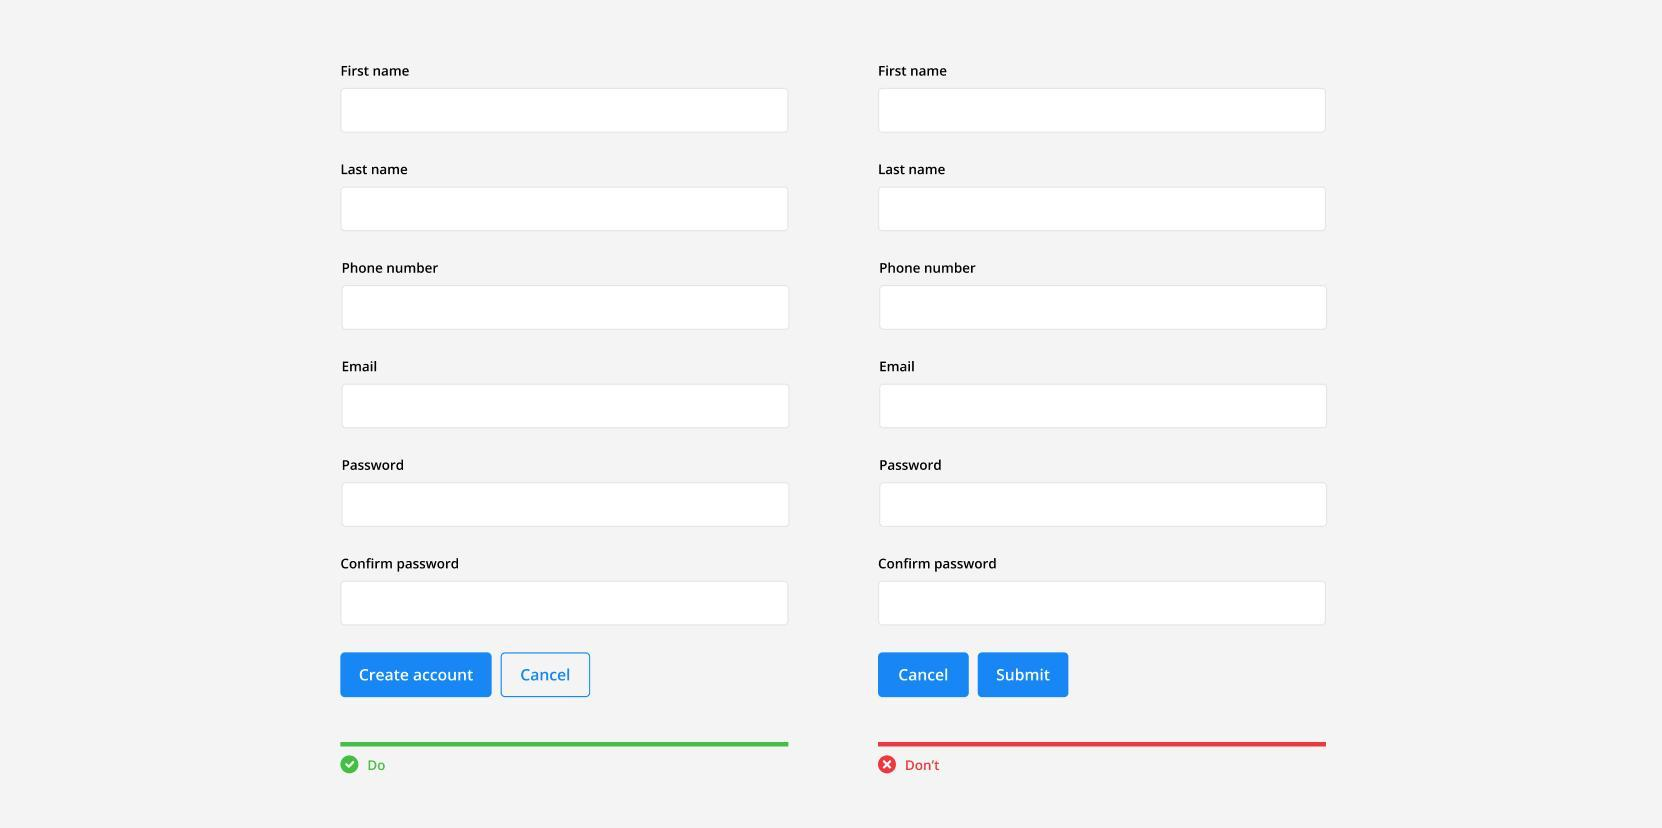button: (339, 652, 494, 697), (879, 652, 972, 700), (977, 651, 1071, 699), (502, 653, 590, 695)
input: (341, 187, 790, 234), (344, 382, 791, 428), (879, 186, 1327, 231), (341, 580, 789, 626), (882, 485, 1328, 530), (882, 384, 1326, 429), (879, 90, 1327, 135), (342, 483, 790, 527), (879, 583, 1327, 626), (343, 287, 790, 330), (881, 287, 1327, 330), (341, 91, 789, 133)
label: (876, 553, 1008, 576), (336, 553, 465, 576), (340, 256, 441, 279), (876, 261, 989, 277), (873, 456, 956, 477), (338, 162, 414, 181), (340, 61, 413, 80), (876, 161, 952, 178), (876, 64, 953, 80), (338, 456, 408, 473), (339, 356, 385, 376), (876, 357, 921, 375)
